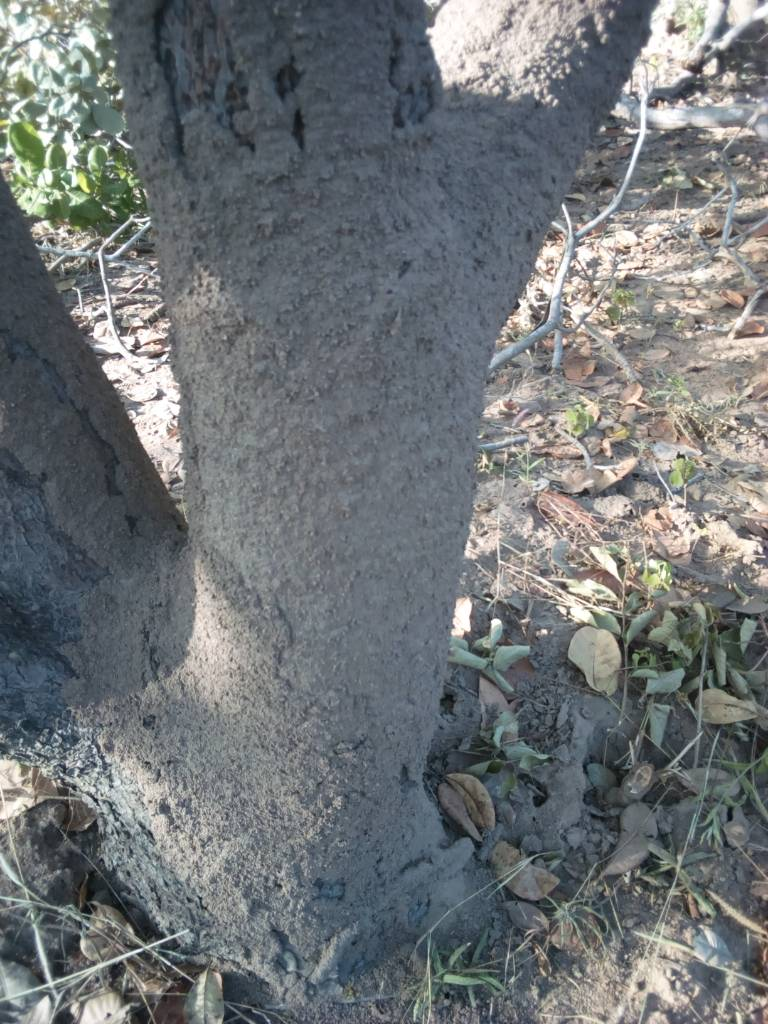Virose: (1, 2, 622, 920)
